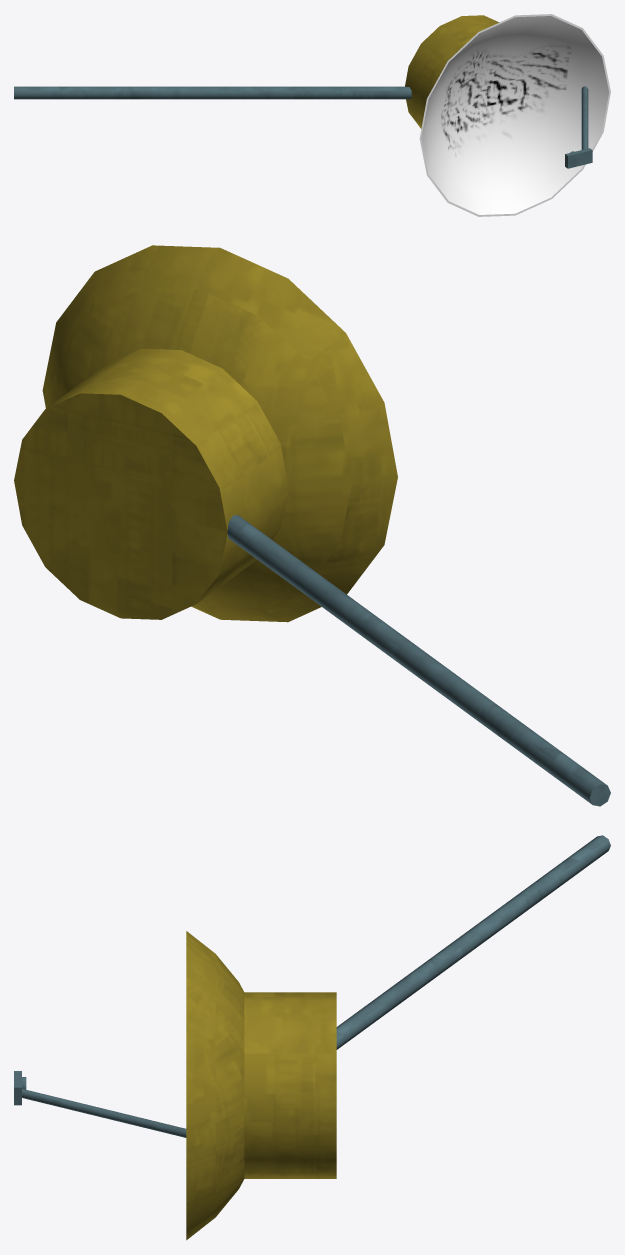
The model's file is jaguar_company_base_buoy.obj.
The picture shows the model from 3 angles, top to bottom: view 1: azimuth 30°, elevation 25°; view 2: azimuth 150°, elevation 25°; view 3: azimuth 270°, elevation 25°; orthographic projection. The views are drawn at different scales.
Parts seen in each view (by area): view 1: jaguar_company_base_buoy; view 2: jaguar_company_base_buoy; view 3: jaguar_company_base_buoy.
Boxes of the visible parts, x1,y1,x2,y2 form: jaguar_company_base_buoy: (14,14,610,216); jaguar_company_base_buoy: (14,245,610,806); jaguar_company_base_buoy: (14,835,610,1240).
Bounding box in the file's own units: 141 × 59.87 × 115.
